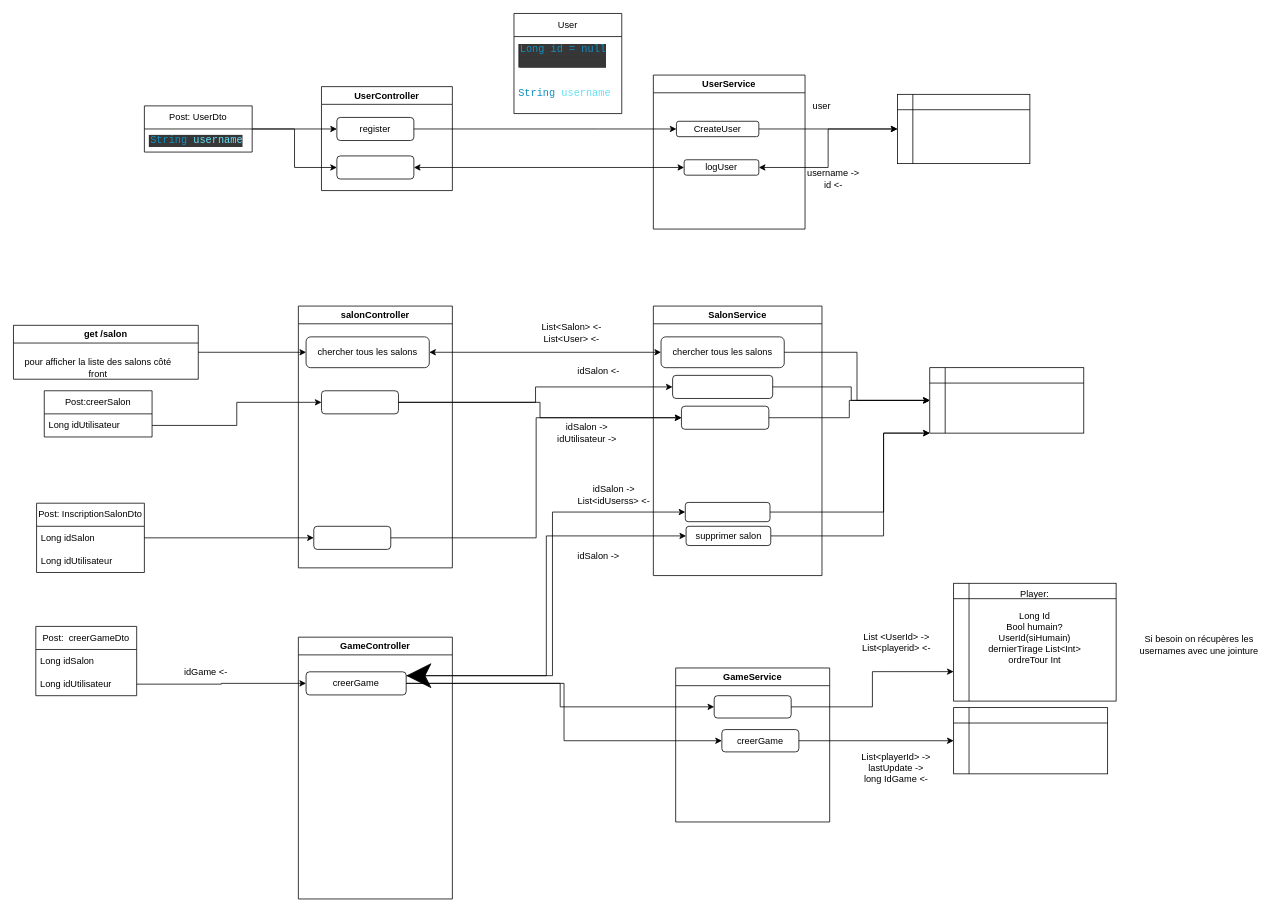
The diagram is 1274 pixels wide and 912 high, and some of its shapes have lost their labels. The centre of each missing label's shape, as x and y in pixels:
"chercher un salon" belongs at point (727, 512).
"Creer nouveau salon" belongs at point (722, 386).
"Creer salon" belongs at point (359, 402).
"creerPlayers" belongs at point (752, 706).
"Game: Long Id List<playerId> lastUpdate: timestamp" belongs at point (1030, 740).
"Inscrire utilisateur" belongs at point (725, 417).
"login" belongs at point (375, 167).
"S'inscrire" belongs at point (352, 537).
"Salon: Long Id List<UserId>" belongs at point (1006, 400).
"users: Long id String username" belongs at point (963, 129).
